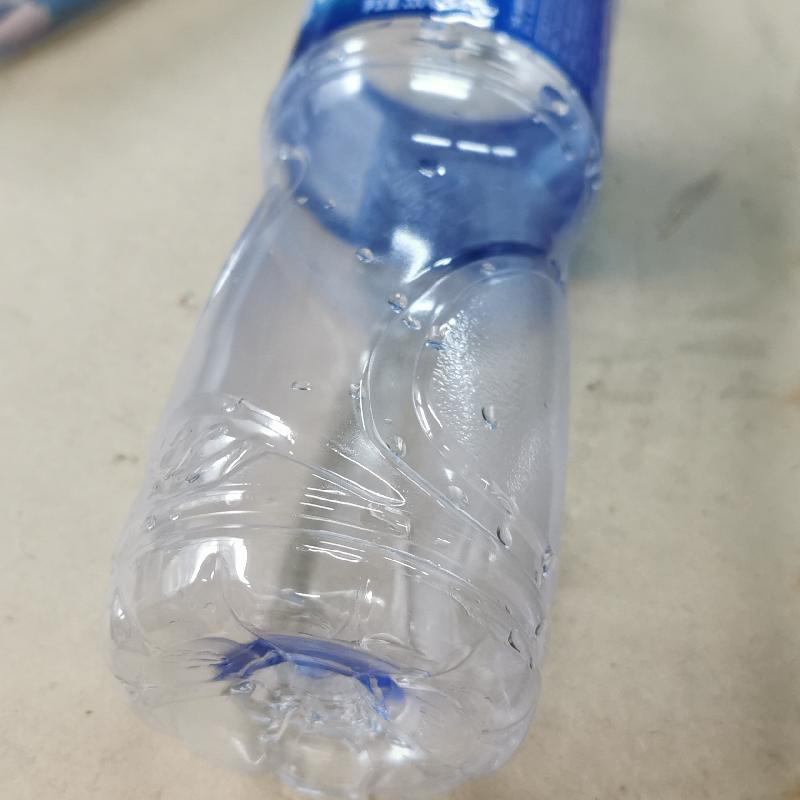bottles: (101, 5, 620, 794)
